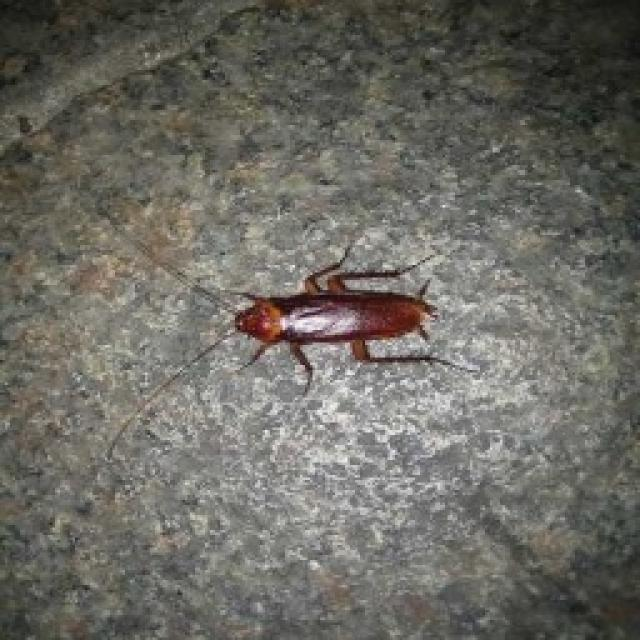cockroach: (212, 258, 496, 389)
